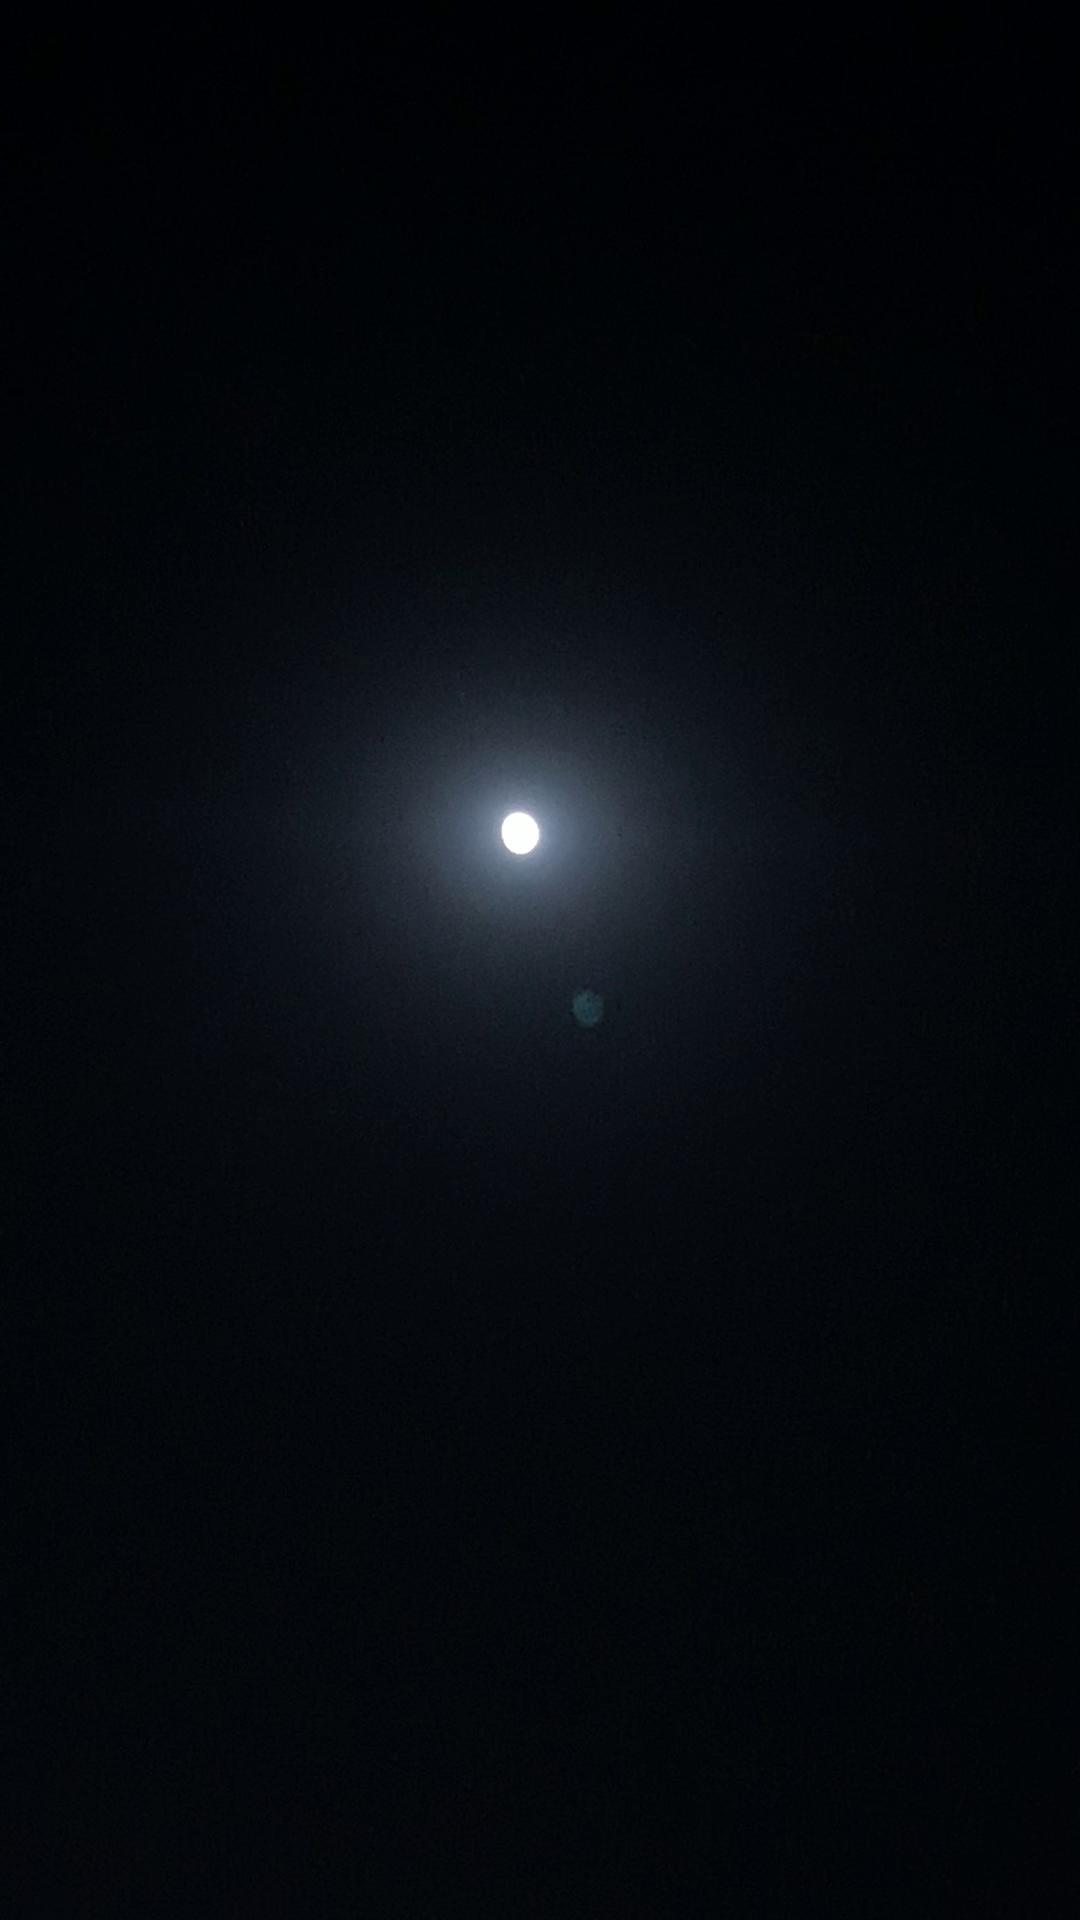moon: (483, 790, 568, 886)
